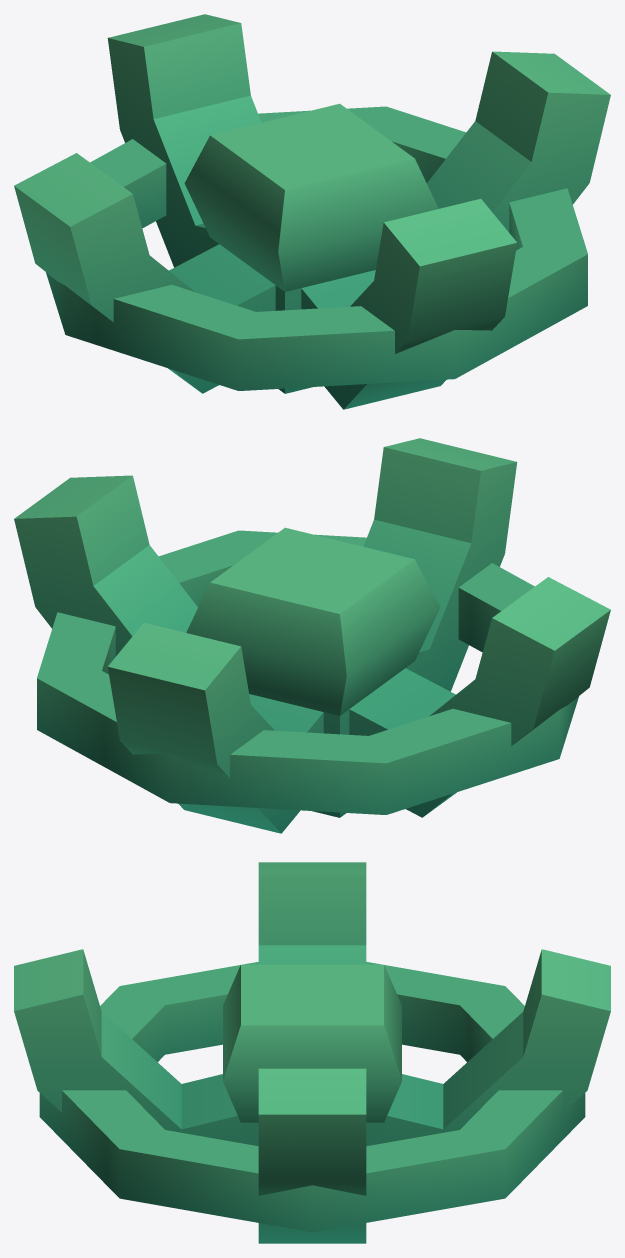
The model's file is fire-basket_lev3.glb.
The picture shows the model from 3 angles, top to bottom: view 1: azimuth 30°, elevation 25°; view 2: azimuth 150°, elevation 25°; view 3: azimuth 270°, elevation 25°; orthographic projection. The views are drawn at different scales.
Parts seen in each view (by area): view 1: fire-basket_lev3; view 2: fire-basket_lev3; view 3: fire-basket_lev3.
Part boxes in pixels (<box>): fire-basket_lev3: <box>14,14,610,409</box>; fire-basket_lev3: <box>14,438,610,833</box>; fire-basket_lev3: <box>14,862,610,1243</box>.
Size of the model in its own units: 2.7 by 1.09 by 2.7.
1 material, 1 textured.
